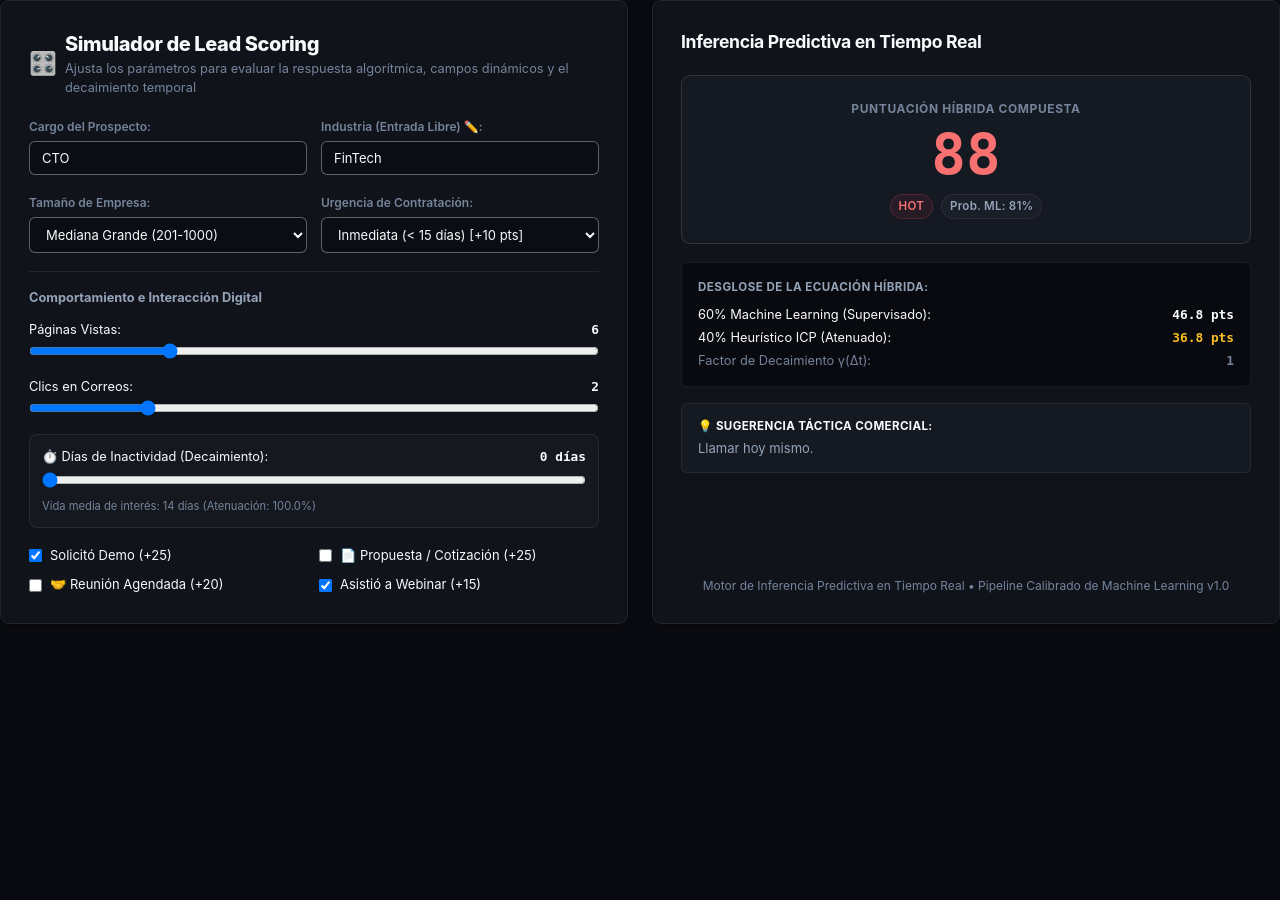
Test: cuando la inferencia falla › lo dice en pantalla en vez de dejar el resultado anterior como si fuera nuevo
The image size is (1280, 900).
expect the text "88" is shown: met, box [931,122,1001,189]
Step 1. Set the slider labelled "Páginas Vistas:" to "20" → (480,351), box [29,343,599,359]
Wait 250 ms
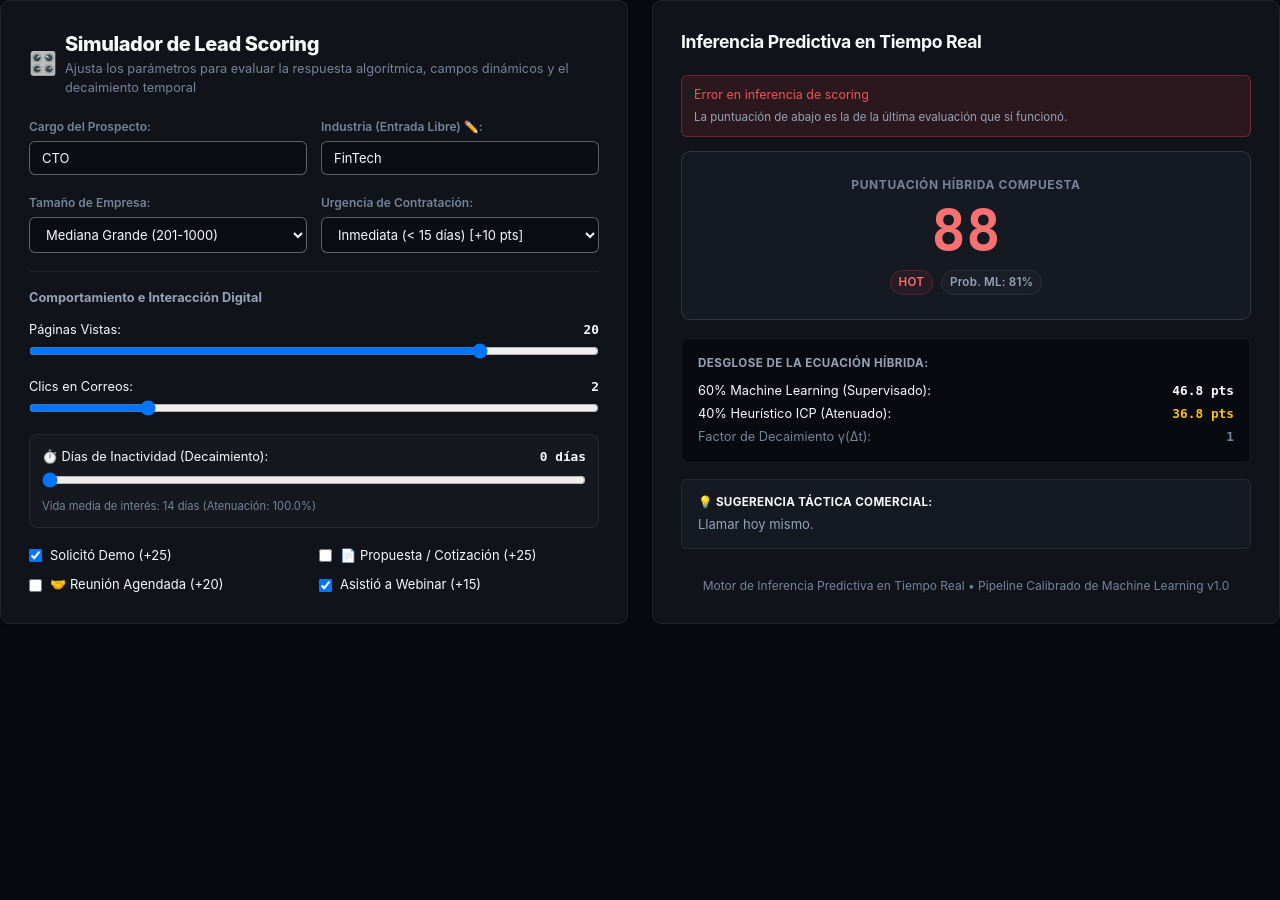
expect the text "Error en inferencia de scoring" is shown: met, box [694,87,869,102]
